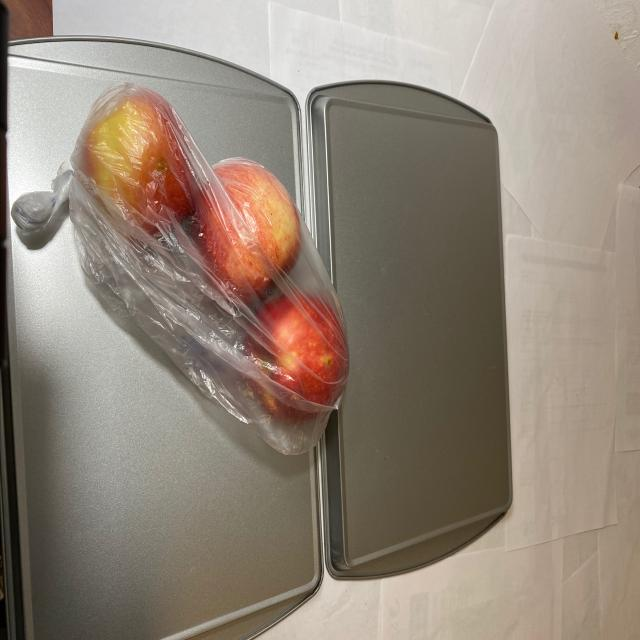apple: (64, 80, 354, 440)
